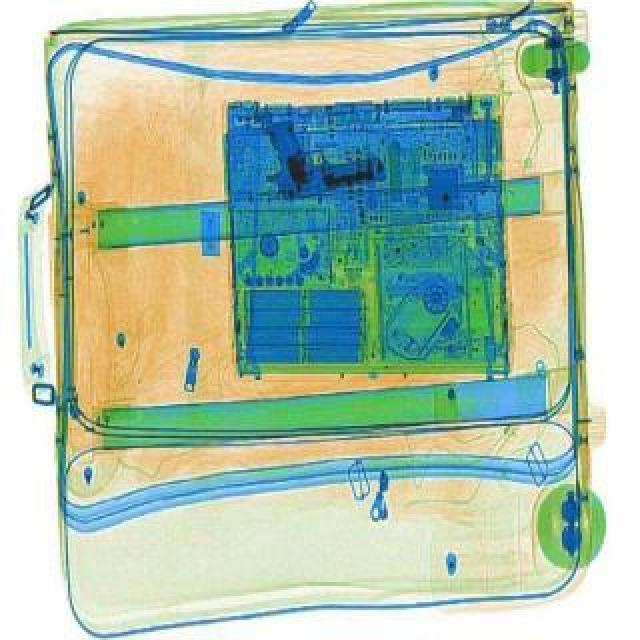gun: (254, 100, 390, 212)
